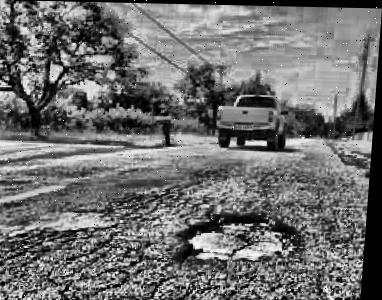pothole: (180, 209, 304, 265)
